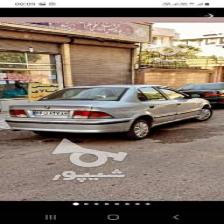plate: (28, 110, 71, 116)
